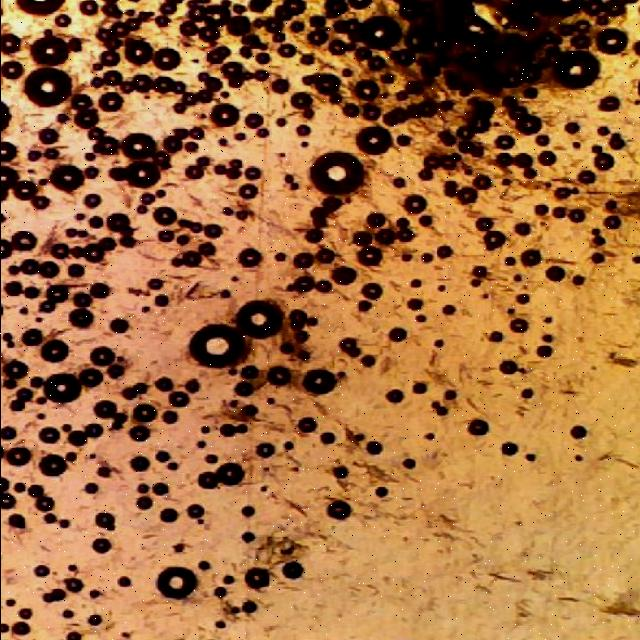microbeads: (307, 148, 369, 198), (185, 322, 245, 372), (233, 297, 284, 341), (156, 566, 197, 600)
